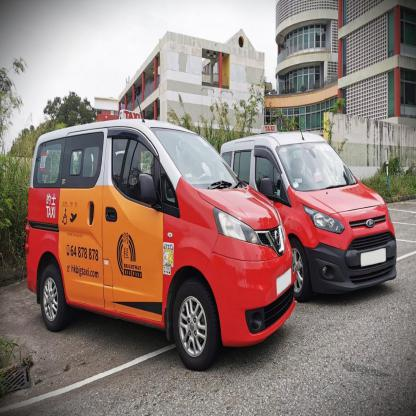taxi: (24, 104, 299, 379)
